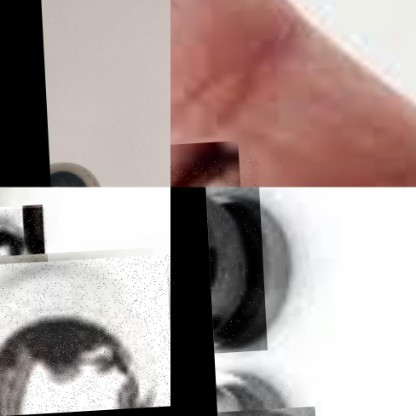ironball: (0, 257, 170, 415), (204, 187, 265, 353), (0, 209, 46, 298), (213, 384, 291, 415)
